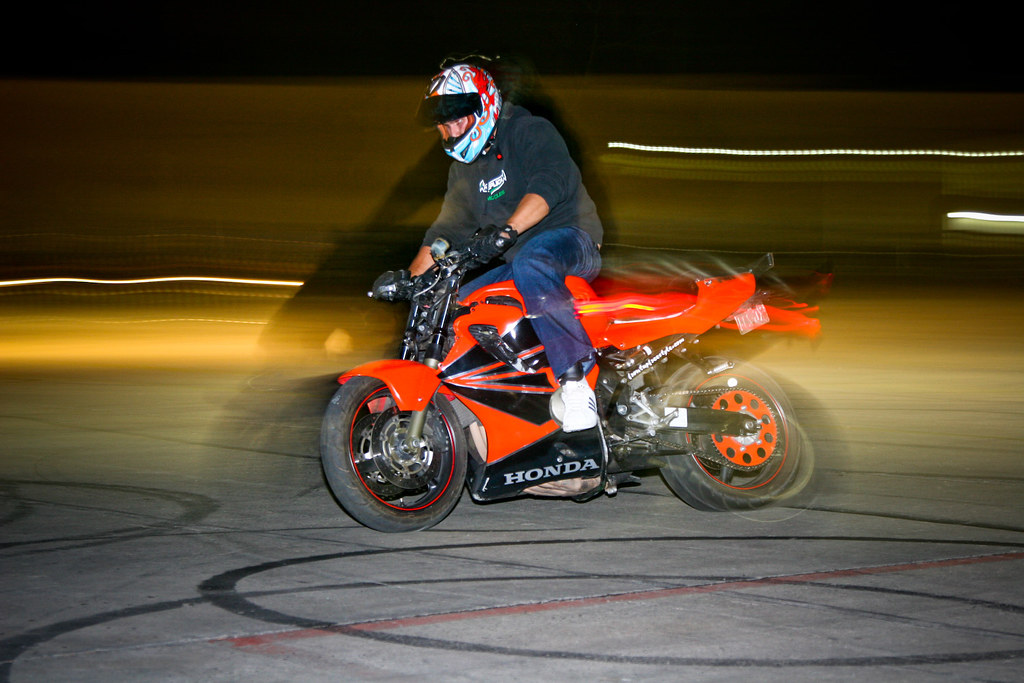helmet: (427, 65, 505, 169)
